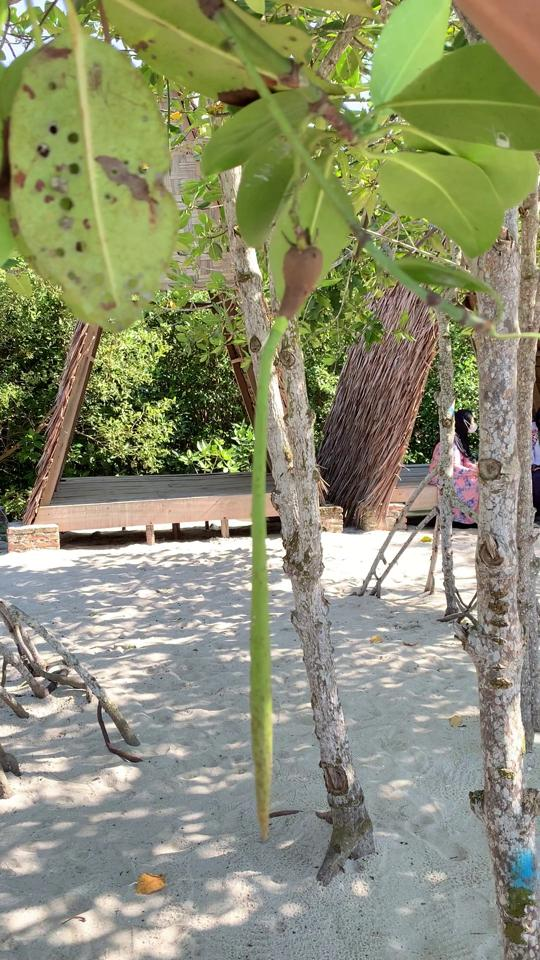setengah matang: (226, 219, 348, 856)
